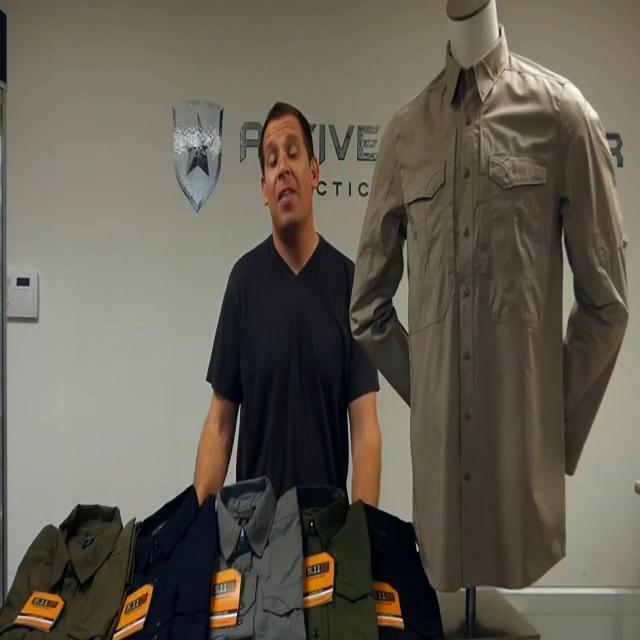Shirt: (349, 21, 631, 596), (0, 502, 142, 640), (115, 482, 217, 640), (211, 475, 306, 640), (297, 482, 378, 640), (365, 506, 445, 640)
